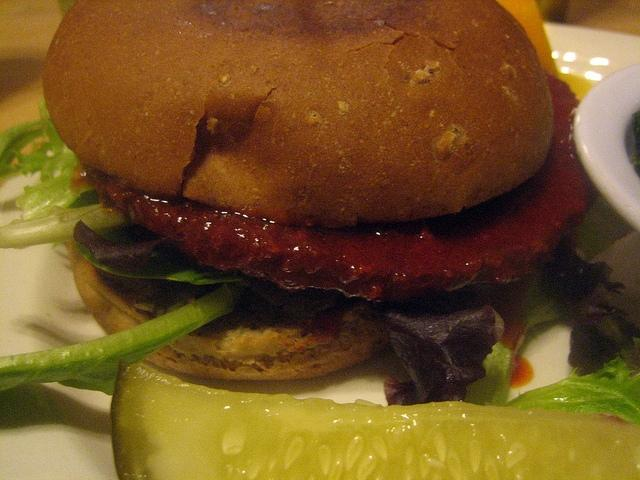lettuce: (375, 238, 640, 408), (5, 284, 245, 388), (74, 220, 248, 284), (505, 353, 640, 425), (1, 186, 127, 250), (2, 86, 79, 183)
